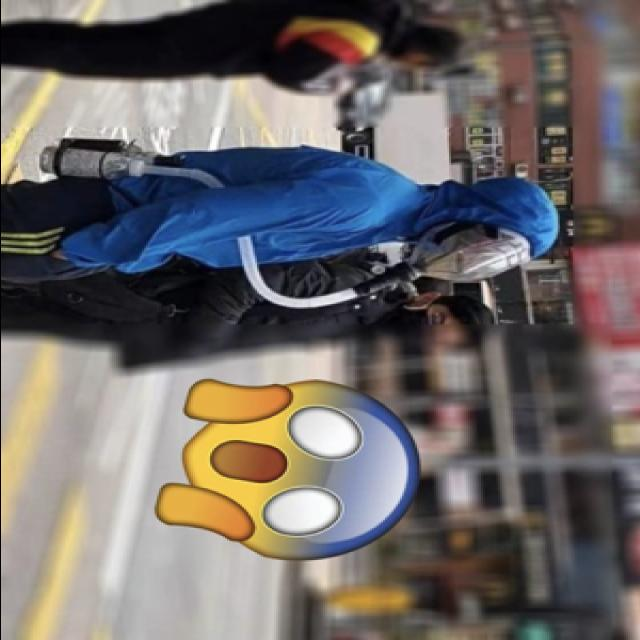with_mask: (409, 229, 504, 283), (376, 300, 454, 350)
